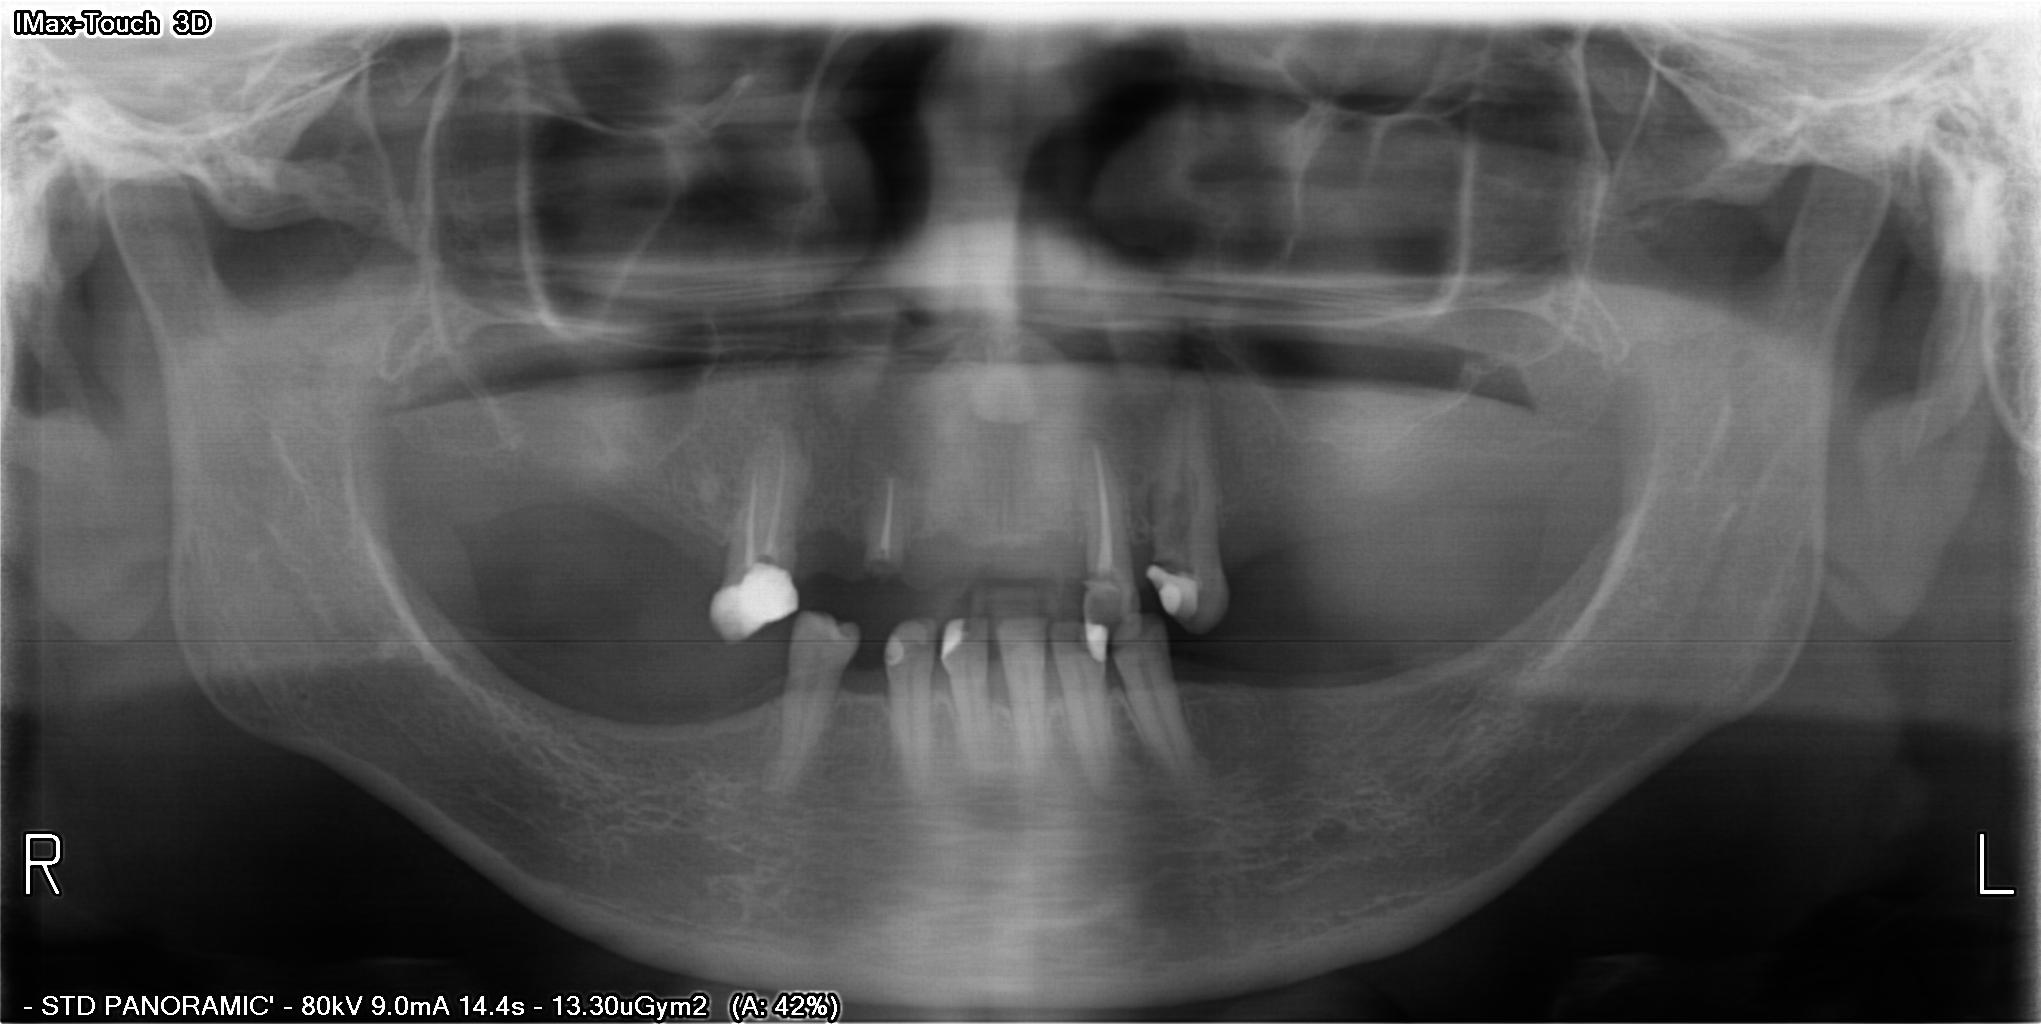Çürük: (713, 563, 803, 643), (1145, 572, 1190, 619), (943, 613, 962, 656), (1086, 628, 1109, 661), (883, 633, 900, 664)
Çürük Bölgesi: (1156, 552, 1197, 577), (960, 614, 983, 639), (1194, 581, 1207, 626)
